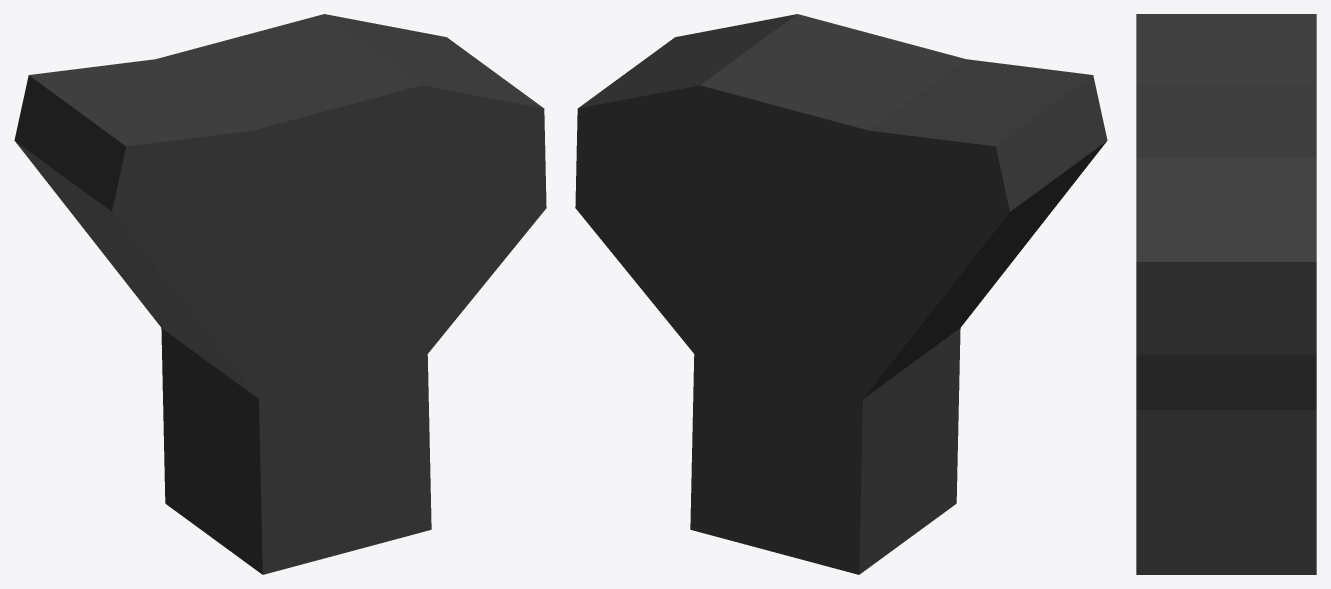
File: SM_Pistols3_01_5.glb
3 renders of one model, left to right at view 1: azimuth 30°, elevation 25°; view 2: azimuth 150°, elevation 25°; view 3: azimuth 270°, elevation 25°, orthographic. The views are drawn at different scales.
Visible parts, largest first — view 1: SM_Pistols3_01_5; view 2: SM_Pistols3_01_5; view 3: SM_Pistols3_01_5.
Boxes of the visible parts, box(x1,y1,x2,y2) form: SM_Pistols3_01_5: box(14, 14, 546, 574); SM_Pistols3_01_5: box(575, 14, 1107, 574); SM_Pistols3_01_5: box(1136, 14, 1316, 574).
Bounding box in the file's own units: 0.0333 × 0.0339 × 0.013.
Materials: 1 (1 with a texture image).
